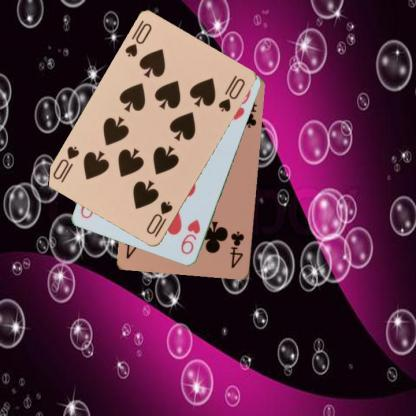10s: (122, 21, 154, 59), (144, 199, 174, 239)
4c: (228, 229, 246, 270)
9h: (178, 217, 202, 256)
